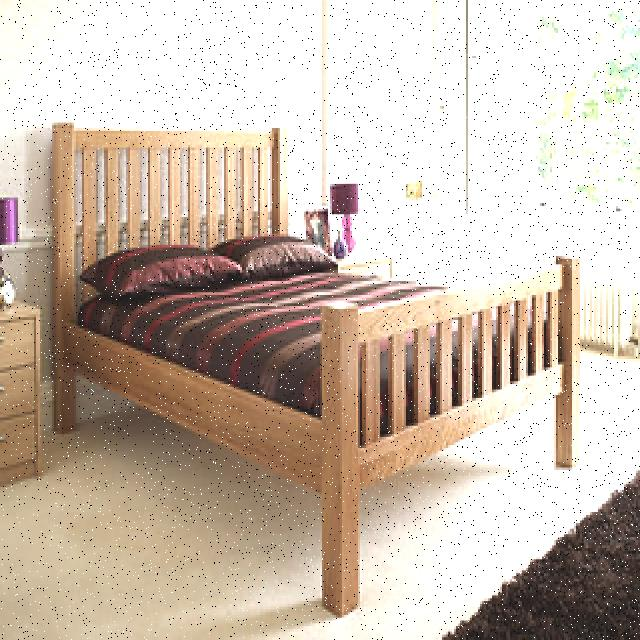bed: (73, 193, 544, 476)
